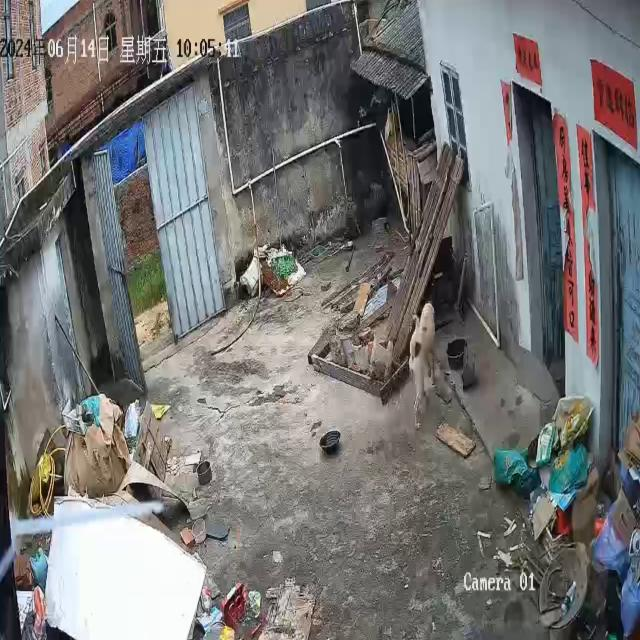dog: (409, 298, 442, 433)
